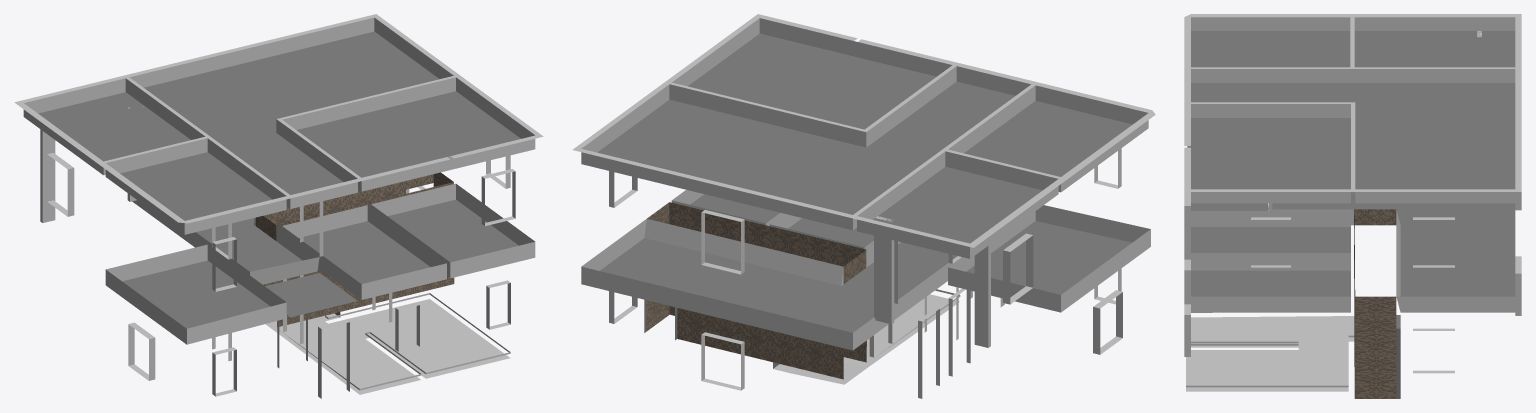
File: Bag.fbx
3 views of the same model, side by side, from view 1: azimuth 30°, elevation 25°; view 2: azimuth 150°, elevation 25°; view 3: azimuth 270°, elevation 25° (orthographic). The views are drawn at different scales.
Parts seen in each view (by area): view 1: Plane.031, Plane.056; view 2: Plane.031, Plane.056; view 3: Plane.031, Plane.056.
Part boxes in pixels (x1,y1,x2,y2): Plane.031: (14, 14, 543, 398); Plane.056: (256, 172, 454, 326); Plane.031: (572, 14, 1155, 398); Plane.056: (646, 202, 866, 379); Plane.031: (1184, 14, 1521, 398); Plane.056: (1354, 209, 1396, 398).
Bounding box in the file's own units: 1280 × 723 × 1026.
